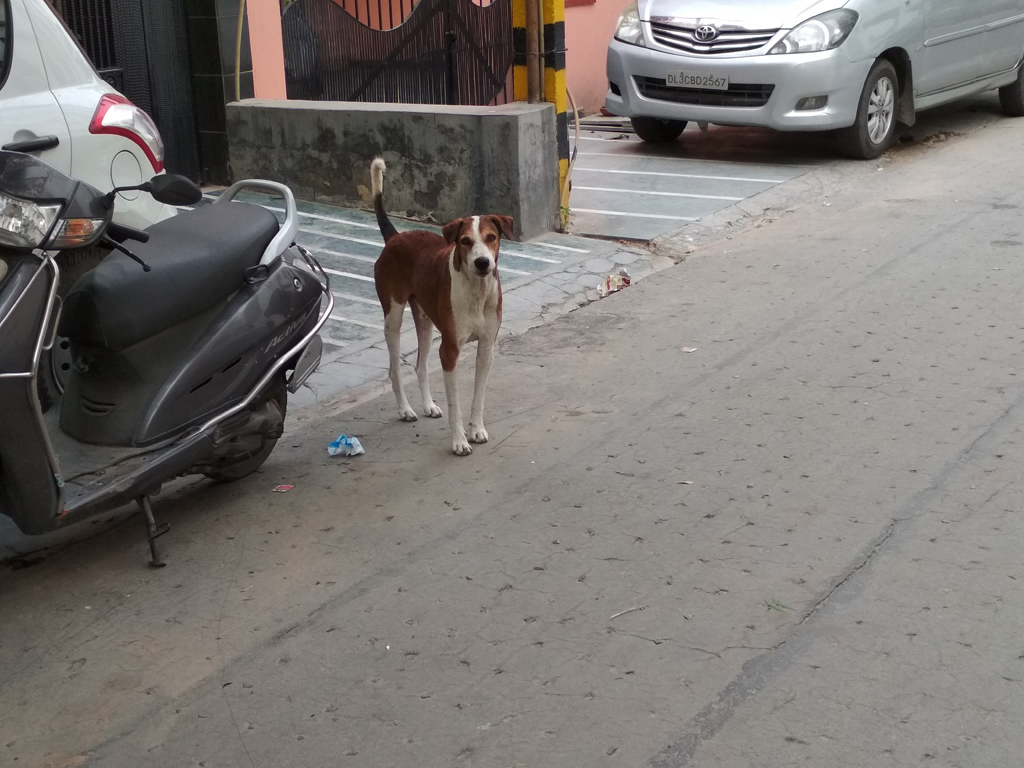dog: (371, 157, 517, 456)
